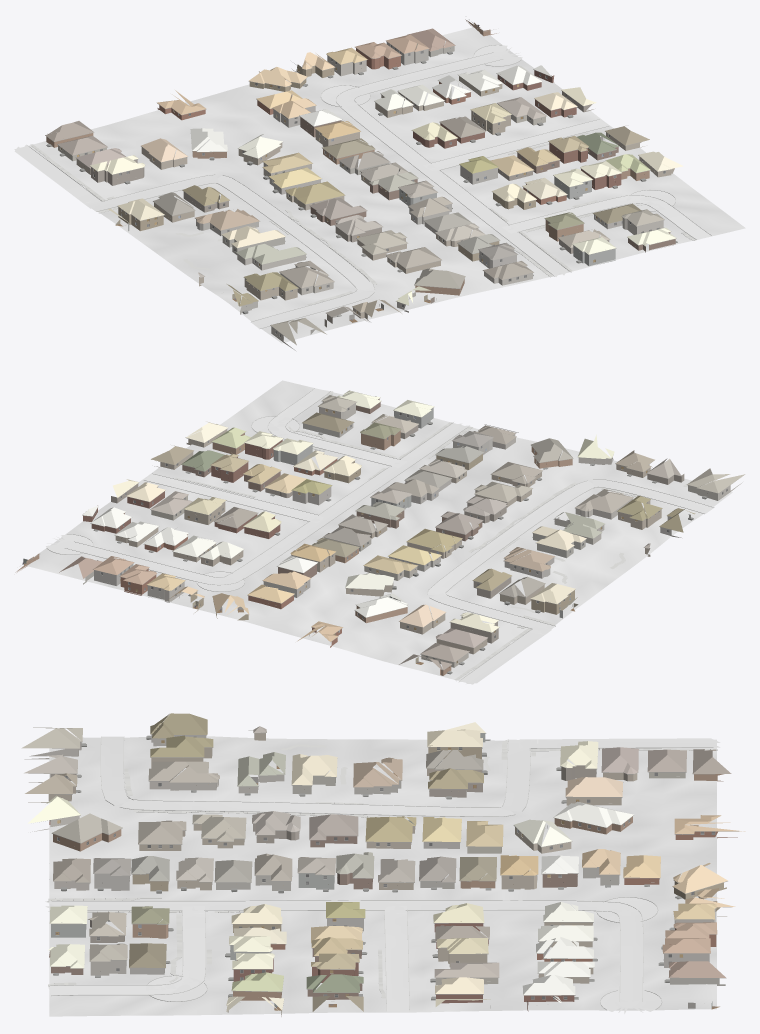
3 renders of one model, top to bottom at view 1: azimuth 30°, elevation 25°; view 2: azimuth 150°, elevation 25°; view 3: azimuth 270°, elevation 25°, orthographic. The views are drawn at different scales.
Visible parts, largest first — view 1: ground, roof, concrete, wall, wall_stucco, detail, curb, wall_stone, walk, glass; view 2: ground, roof, concrete, wall, wall_stucco, detail, curb, wall_stone, walk, glass; view 3: ground, roof, concrete, wall, wall_stucco, detail, curb, wall_stone, walk, glass.
Part boxes in pixels (x1,y1,x2,y2): ground: (14,27,745,343); roof: (45,28,683,345); concrete: (14,45,711,328); wall: (46,19,675,327); wall_stucco: (58,46,674,350); detail: (45,19,677,339); curb: (27,44,711,328); wall_stone: (196,42,622,314); walk: (30,132,696,332); glass: (84,26,665,336); ground: (23,380,732,684); roof: (59,390,745,669); concrete: (46,388,713,683); wall: (15,399,684,675); wall_stucco: (83,401,742,667); detail: (24,395,732,674); curb: (46,388,714,681); wall_stone: (94,423,681,597); walk: (174,391,688,680); glass: (30,408,727,659); ground: (49,736,716,1016); roof: (21,713,745,1011); concrete: (45,736,720,1013); wall: (28,733,737,1011); wall_stucco: (24,733,725,1016); detail: (28,730,738,1008); curb: (47,736,717,1010); wall_stone: (94,734,709,974); walk: (48,739,717,998); glass: (57,736,714,999).
Size of the model in its own units: 262 by 14.04 by 274.
